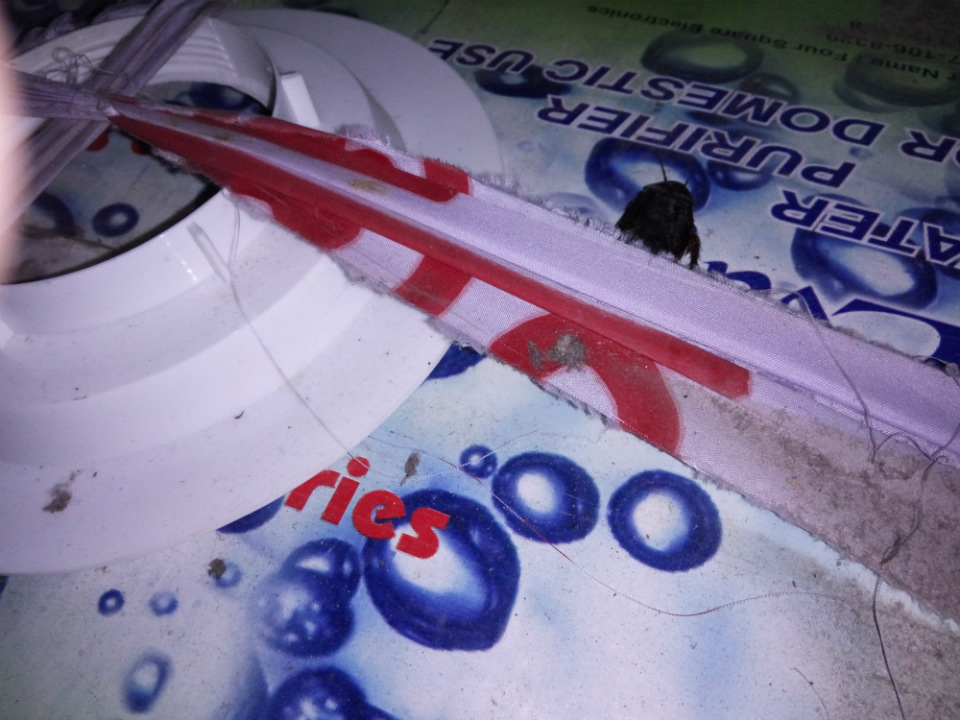cockroach: (605, 146, 756, 267)
